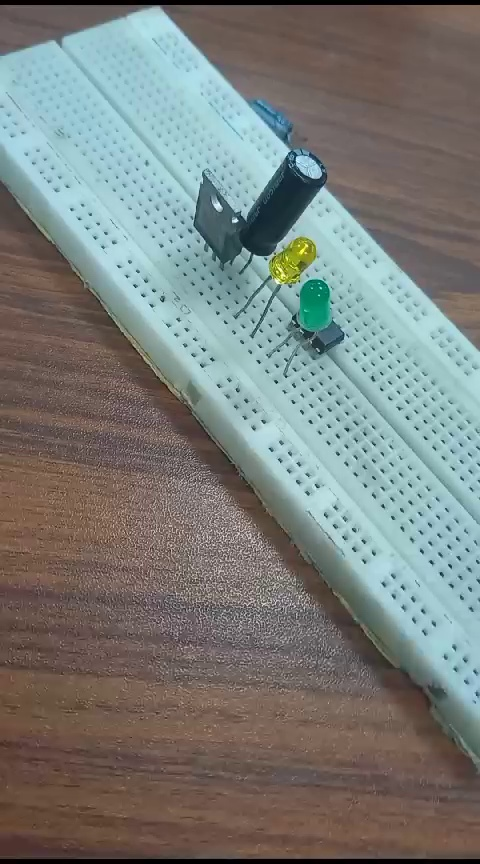LED: (284, 243, 325, 278), (310, 288, 329, 338)
capacitor: (264, 130, 327, 234)
voltage regulator: (184, 162, 245, 280)
